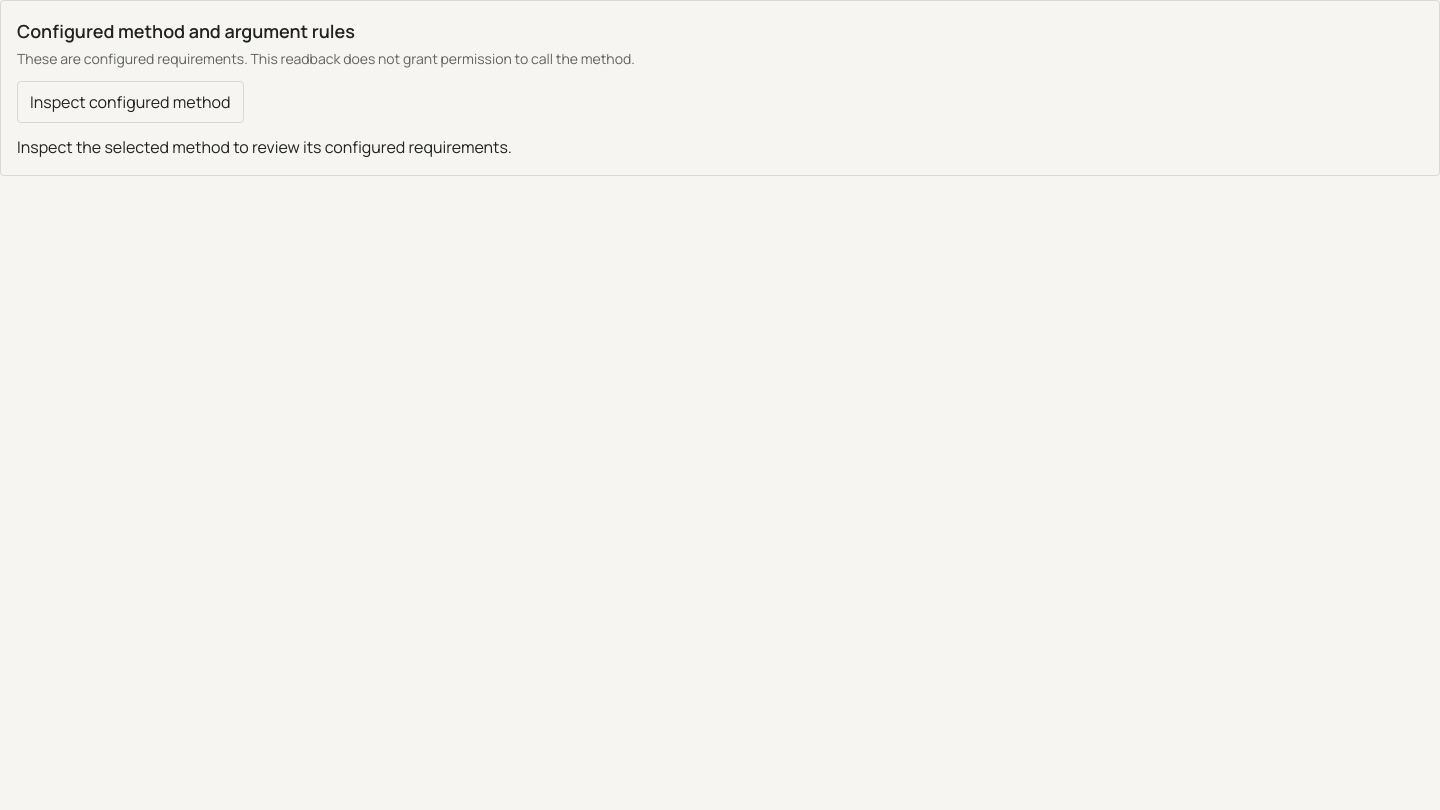
Test: renders both normalized BOOLEAN operands while preserving the exact integer operand
The image size is (1440, 810).
Step 1. Click the button "Inspect configured method" → (130, 102), box left=17, top=81, right=244, bottom=123
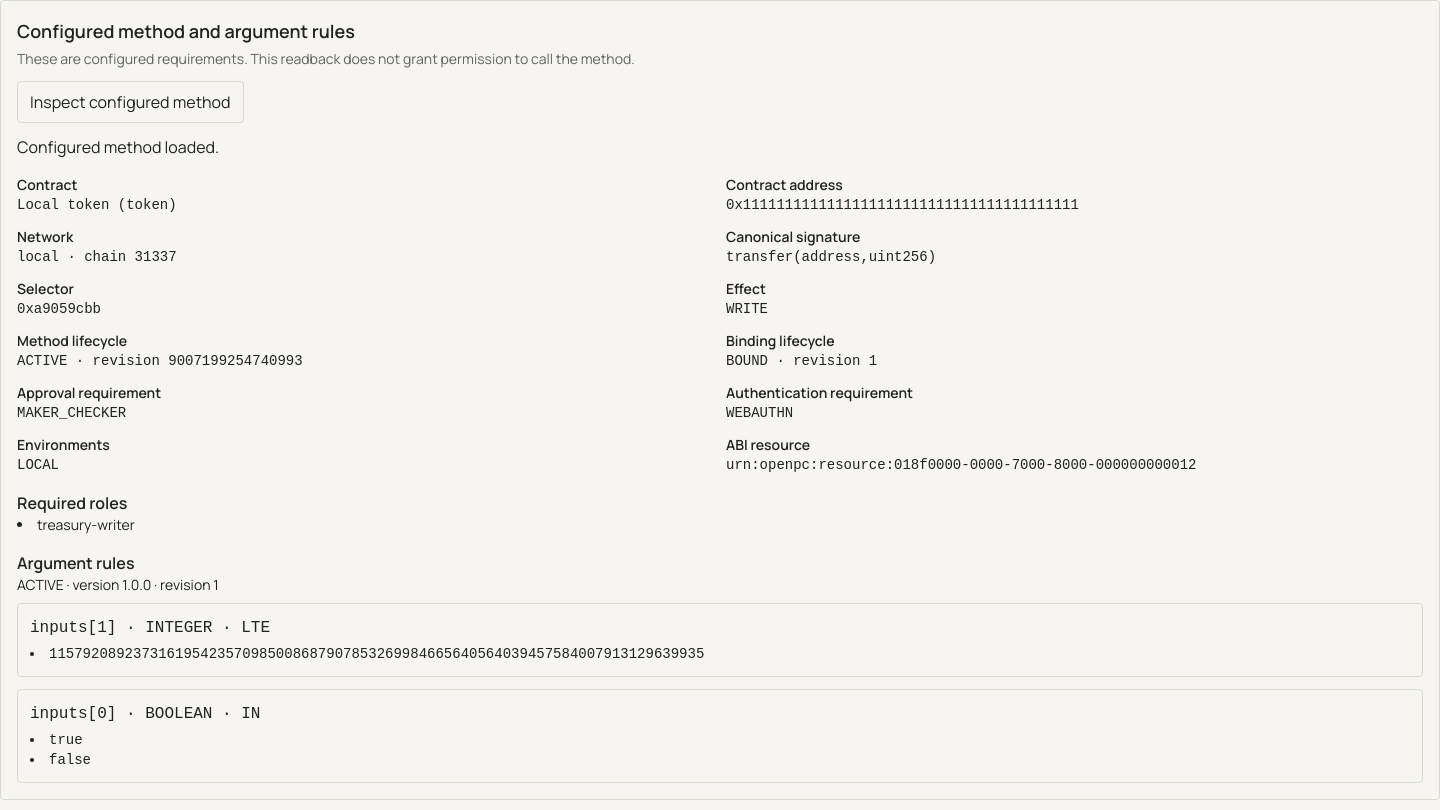
Now the list item "true" is shown, box left=49, top=732, right=83, bottom=748
Now the list item "false" is shown, box left=49, top=752, right=91, bottom=768
Now the list item "115792089237316195423570985008687907853269984665640564039457584007913129639935" is shown, box left=49, top=646, right=704, bottom=662
